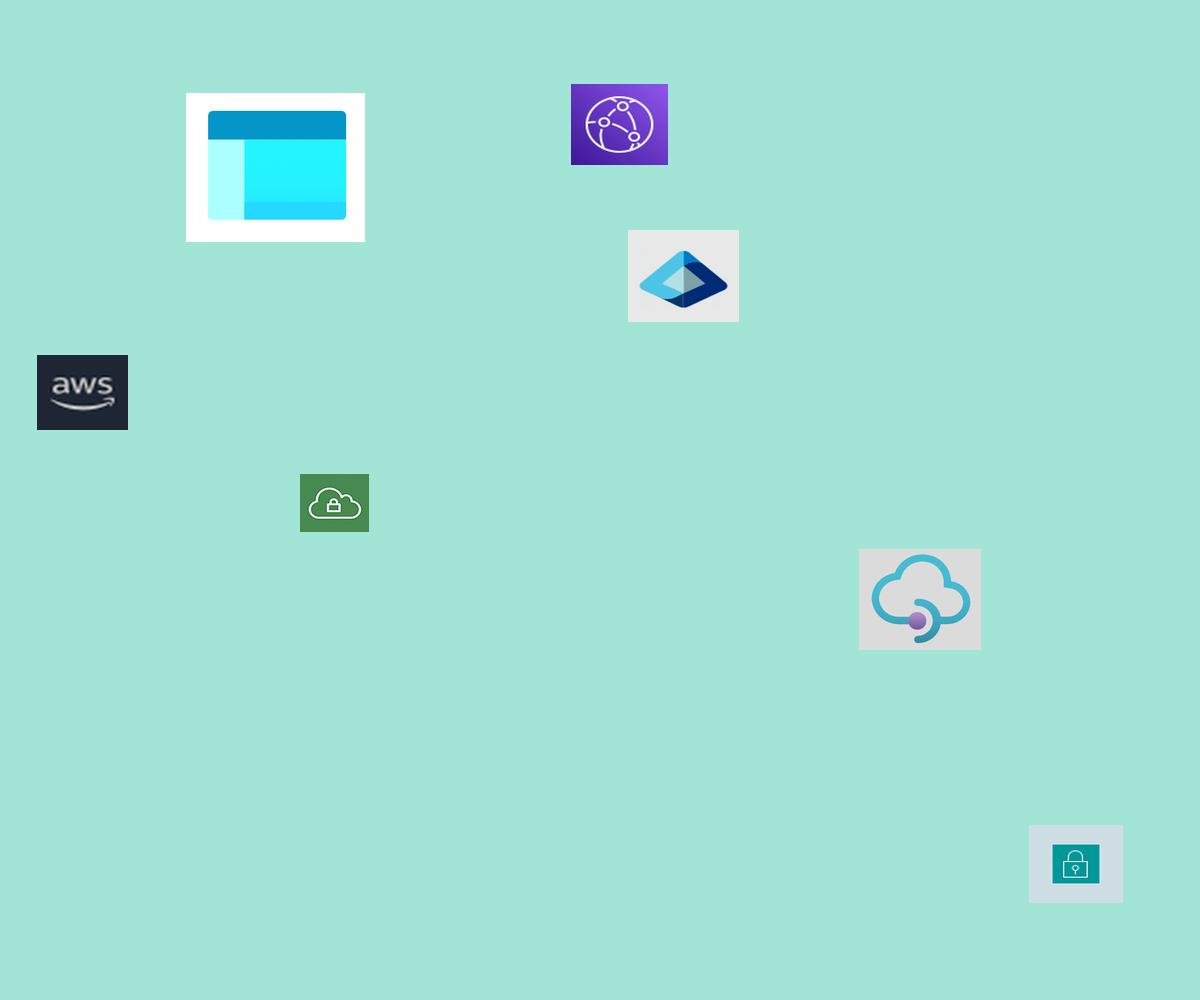AWS-Cloud-logo: (37, 355, 128, 430)
AWS-CloudFront: (571, 84, 668, 165)
AWS-Private-subnet: (1029, 825, 1123, 903)
AWS-Private_vpc: (300, 474, 369, 532)
Azure_api_gateway: (859, 549, 981, 650)
Azure_management-portal: (186, 93, 365, 242)
Azure_microsoft_entra: (628, 230, 739, 322)
